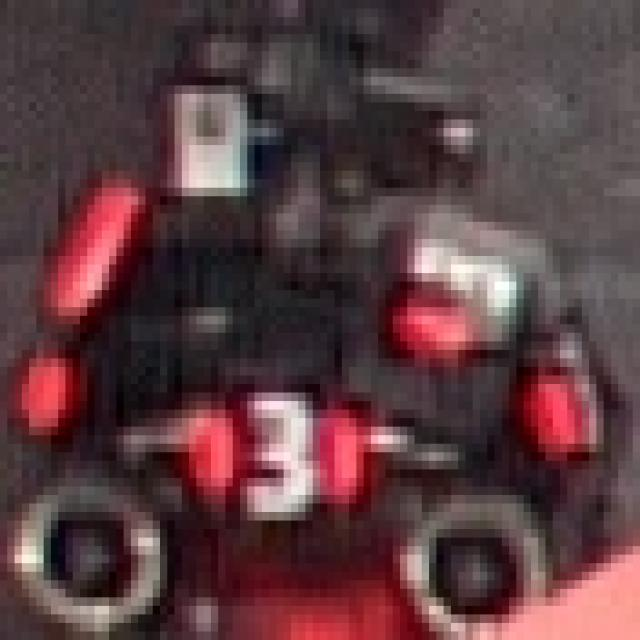R3: (171, 380, 374, 525), (385, 188, 531, 358), (505, 312, 622, 456)
